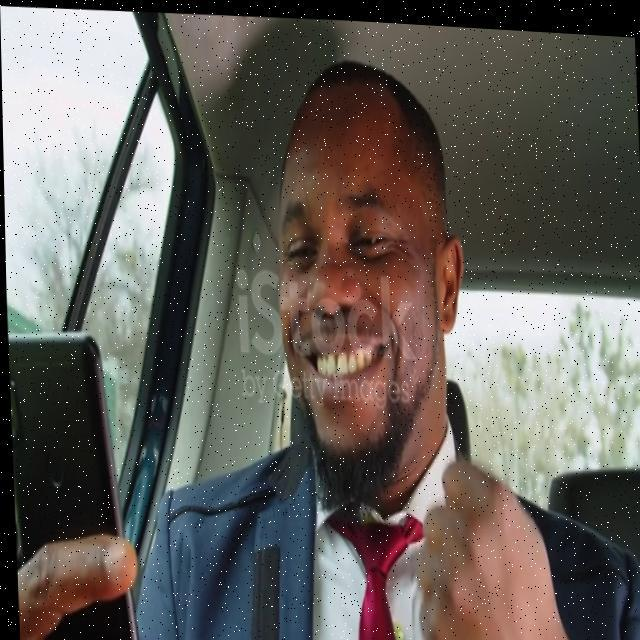PhoneCall: (7, 325, 138, 640)
